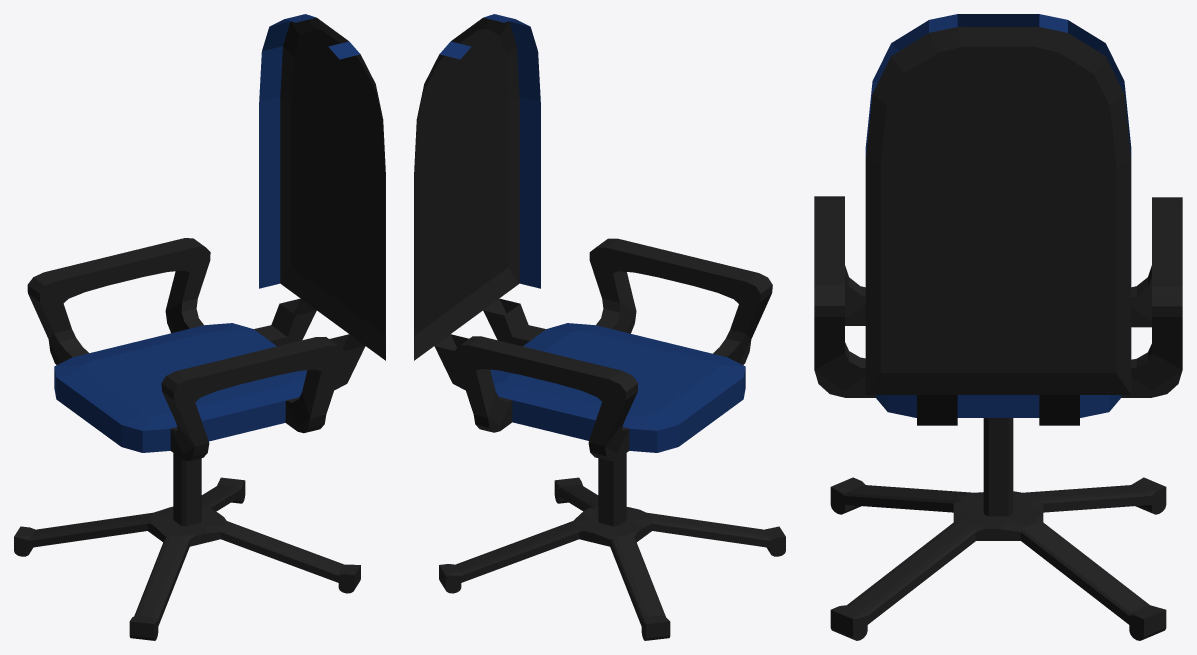
Rendered from chair2.glb.
3 views of the same model, side by side, from view 1: azimuth 30°, elevation 25°; view 2: azimuth 150°, elevation 25°; view 3: azimuth 270°, elevation 25° (orthographic). The views are drawn at different scales.
Visible parts, largest first — view 1: Cube.001, Cube; view 2: Cube.001, Cube; view 3: Cube.001, Cube.
Part boxes in pixels (x1=…): Cube.001: x1=27, y1=14, x2=385, y2=461; Cube: x1=14, y1=453, x2=360, y2=640; Cube.001: x1=414, y1=14, x2=772, y2=461; Cube: x1=439, y1=453, x2=785, y2=640; Cube.001: x1=814, y1=14, x2=1182, y2=425; Cube: x1=830, y1=418, x2=1166, y2=640.
Size of the model in its own units: 1.89 by 3.42 by 1.8.
Materials: 3 (3 with a texture image).
